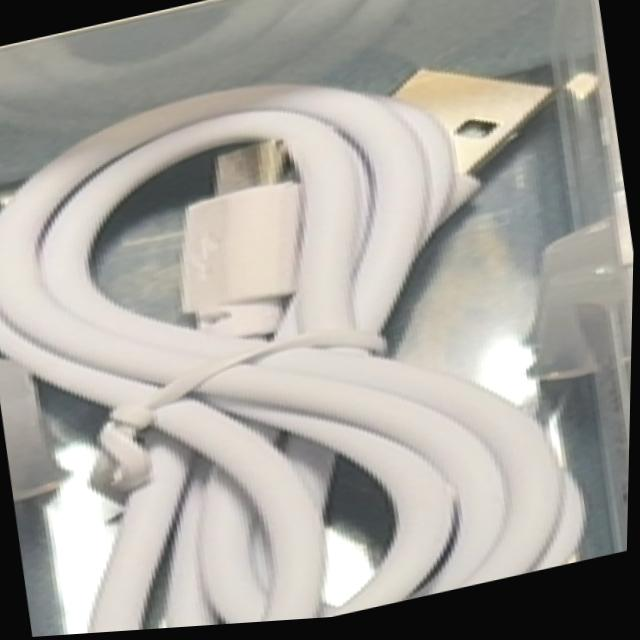USB: (0, 3, 627, 640)
